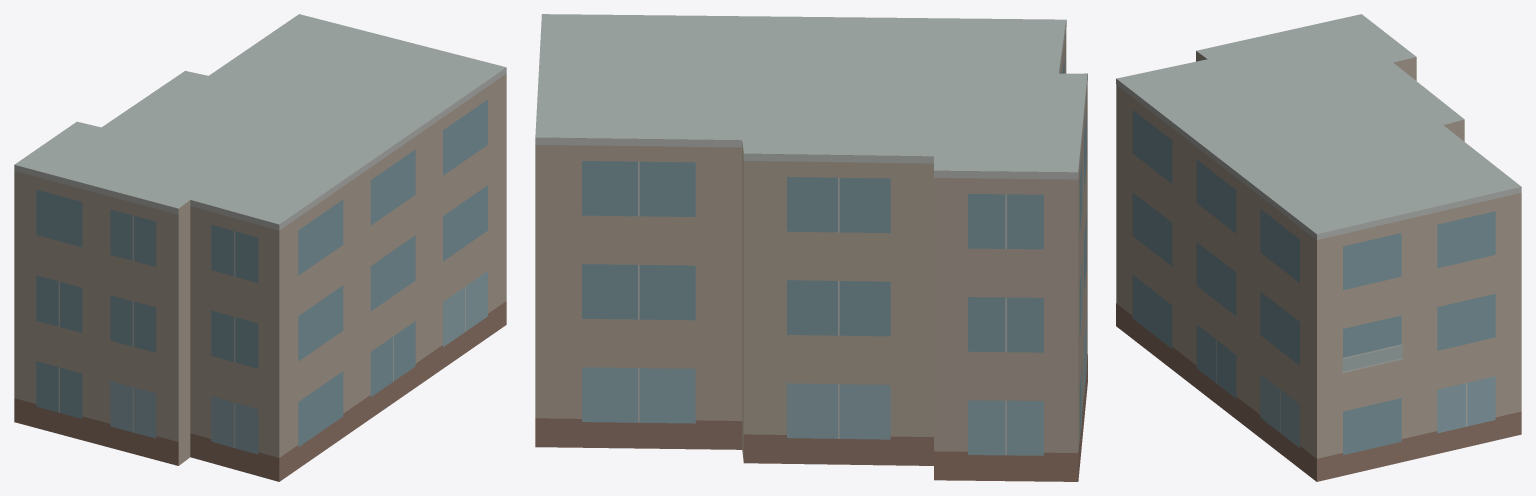
Rendered from survey-upis-32601712.glb.
3 renders of one model, left to right at view 1: azimuth 30°, elevation 25°; view 2: azimuth 150°, elevation 25°; view 3: azimuth 270°, elevation 25°, orthographic. The views are drawn at different scales.
Visible parts, largest first — view 1: survey-upis-32601712.tmp; view 2: survey-upis-32601712.tmp; view 3: survey-upis-32601712.tmp.
Boxes of the visible parts, x1,y1,x2,y2 form: survey-upis-32601712.tmp: (14,14,506,481); survey-upis-32601712.tmp: (535,14,1087,481); survey-upis-32601712.tmp: (1116,14,1521,481).
Bounding box in the file's own units: 19.66 × 10.3 × 15.3.
